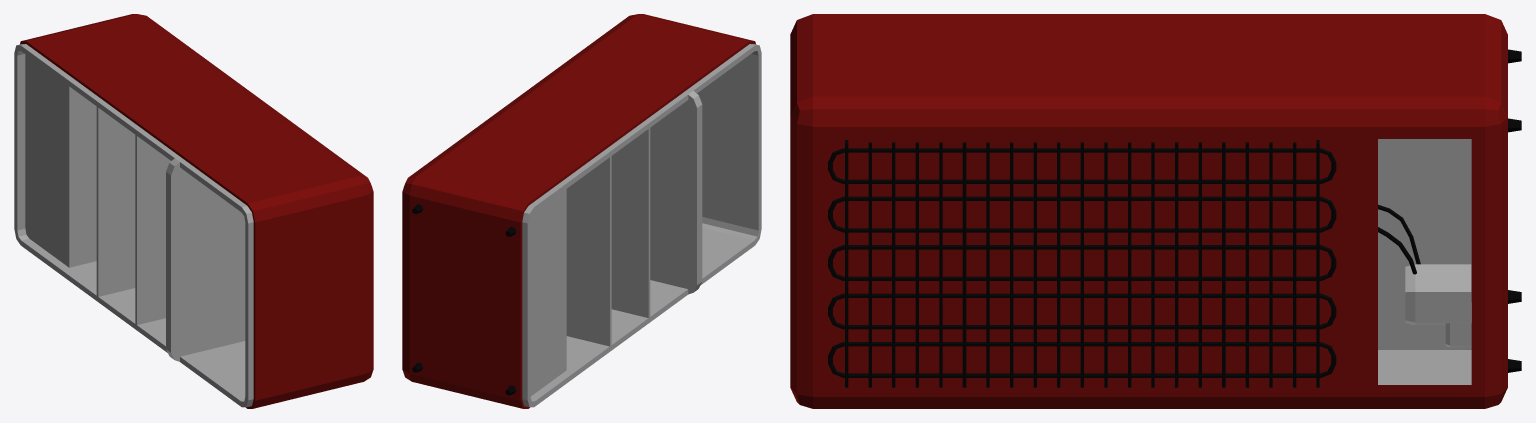
File: corpus.obj
The picture shows the model from 3 angles, left to right: view 1: azimuth 30°, elevation 25°; view 2: azimuth 150°, elevation 25°; view 3: azimuth 270°, elevation 25°; orthographic projection. The views are drawn at different scales.
Visible parts, largest first — view 1: Cylinder.056_Cylinder.074_basic_1, Cylinder.056_Cylinder.074_basic_2; view 2: Cylinder.056_Cylinder.074_basic_1, Cylinder.056_Cylinder.074_basic_2, Cylinder.056_Cylinder.074_darck; view 3: Cylinder.056_Cylinder.074_basic_1, Cylinder.056_Cylinder.074_darck, Cylinder.056_Cylinder.074_basic_2.
Part boxes in pixels (x1,y1,x2,y2): Cylinder.056_Cylinder.074_basic_1: (20, 14, 373, 408); Cylinder.056_Cylinder.074_basic_2: (14, 44, 253, 407); Cylinder.056_Cylinder.074_basic_1: (402, 14, 755, 408); Cylinder.056_Cylinder.074_basic_2: (522, 44, 761, 407); Cylinder.056_Cylinder.074_darck: (412, 204, 516, 395); Cylinder.056_Cylinder.074_basic_1: (790, 14, 1507, 408); Cylinder.056_Cylinder.074_darck: (828, 49, 1521, 387); Cylinder.056_Cylinder.074_basic_2: (1378, 139, 1471, 384).
Size of the model in its own units: 0.1098 by 0.1499 by 0.3187.
